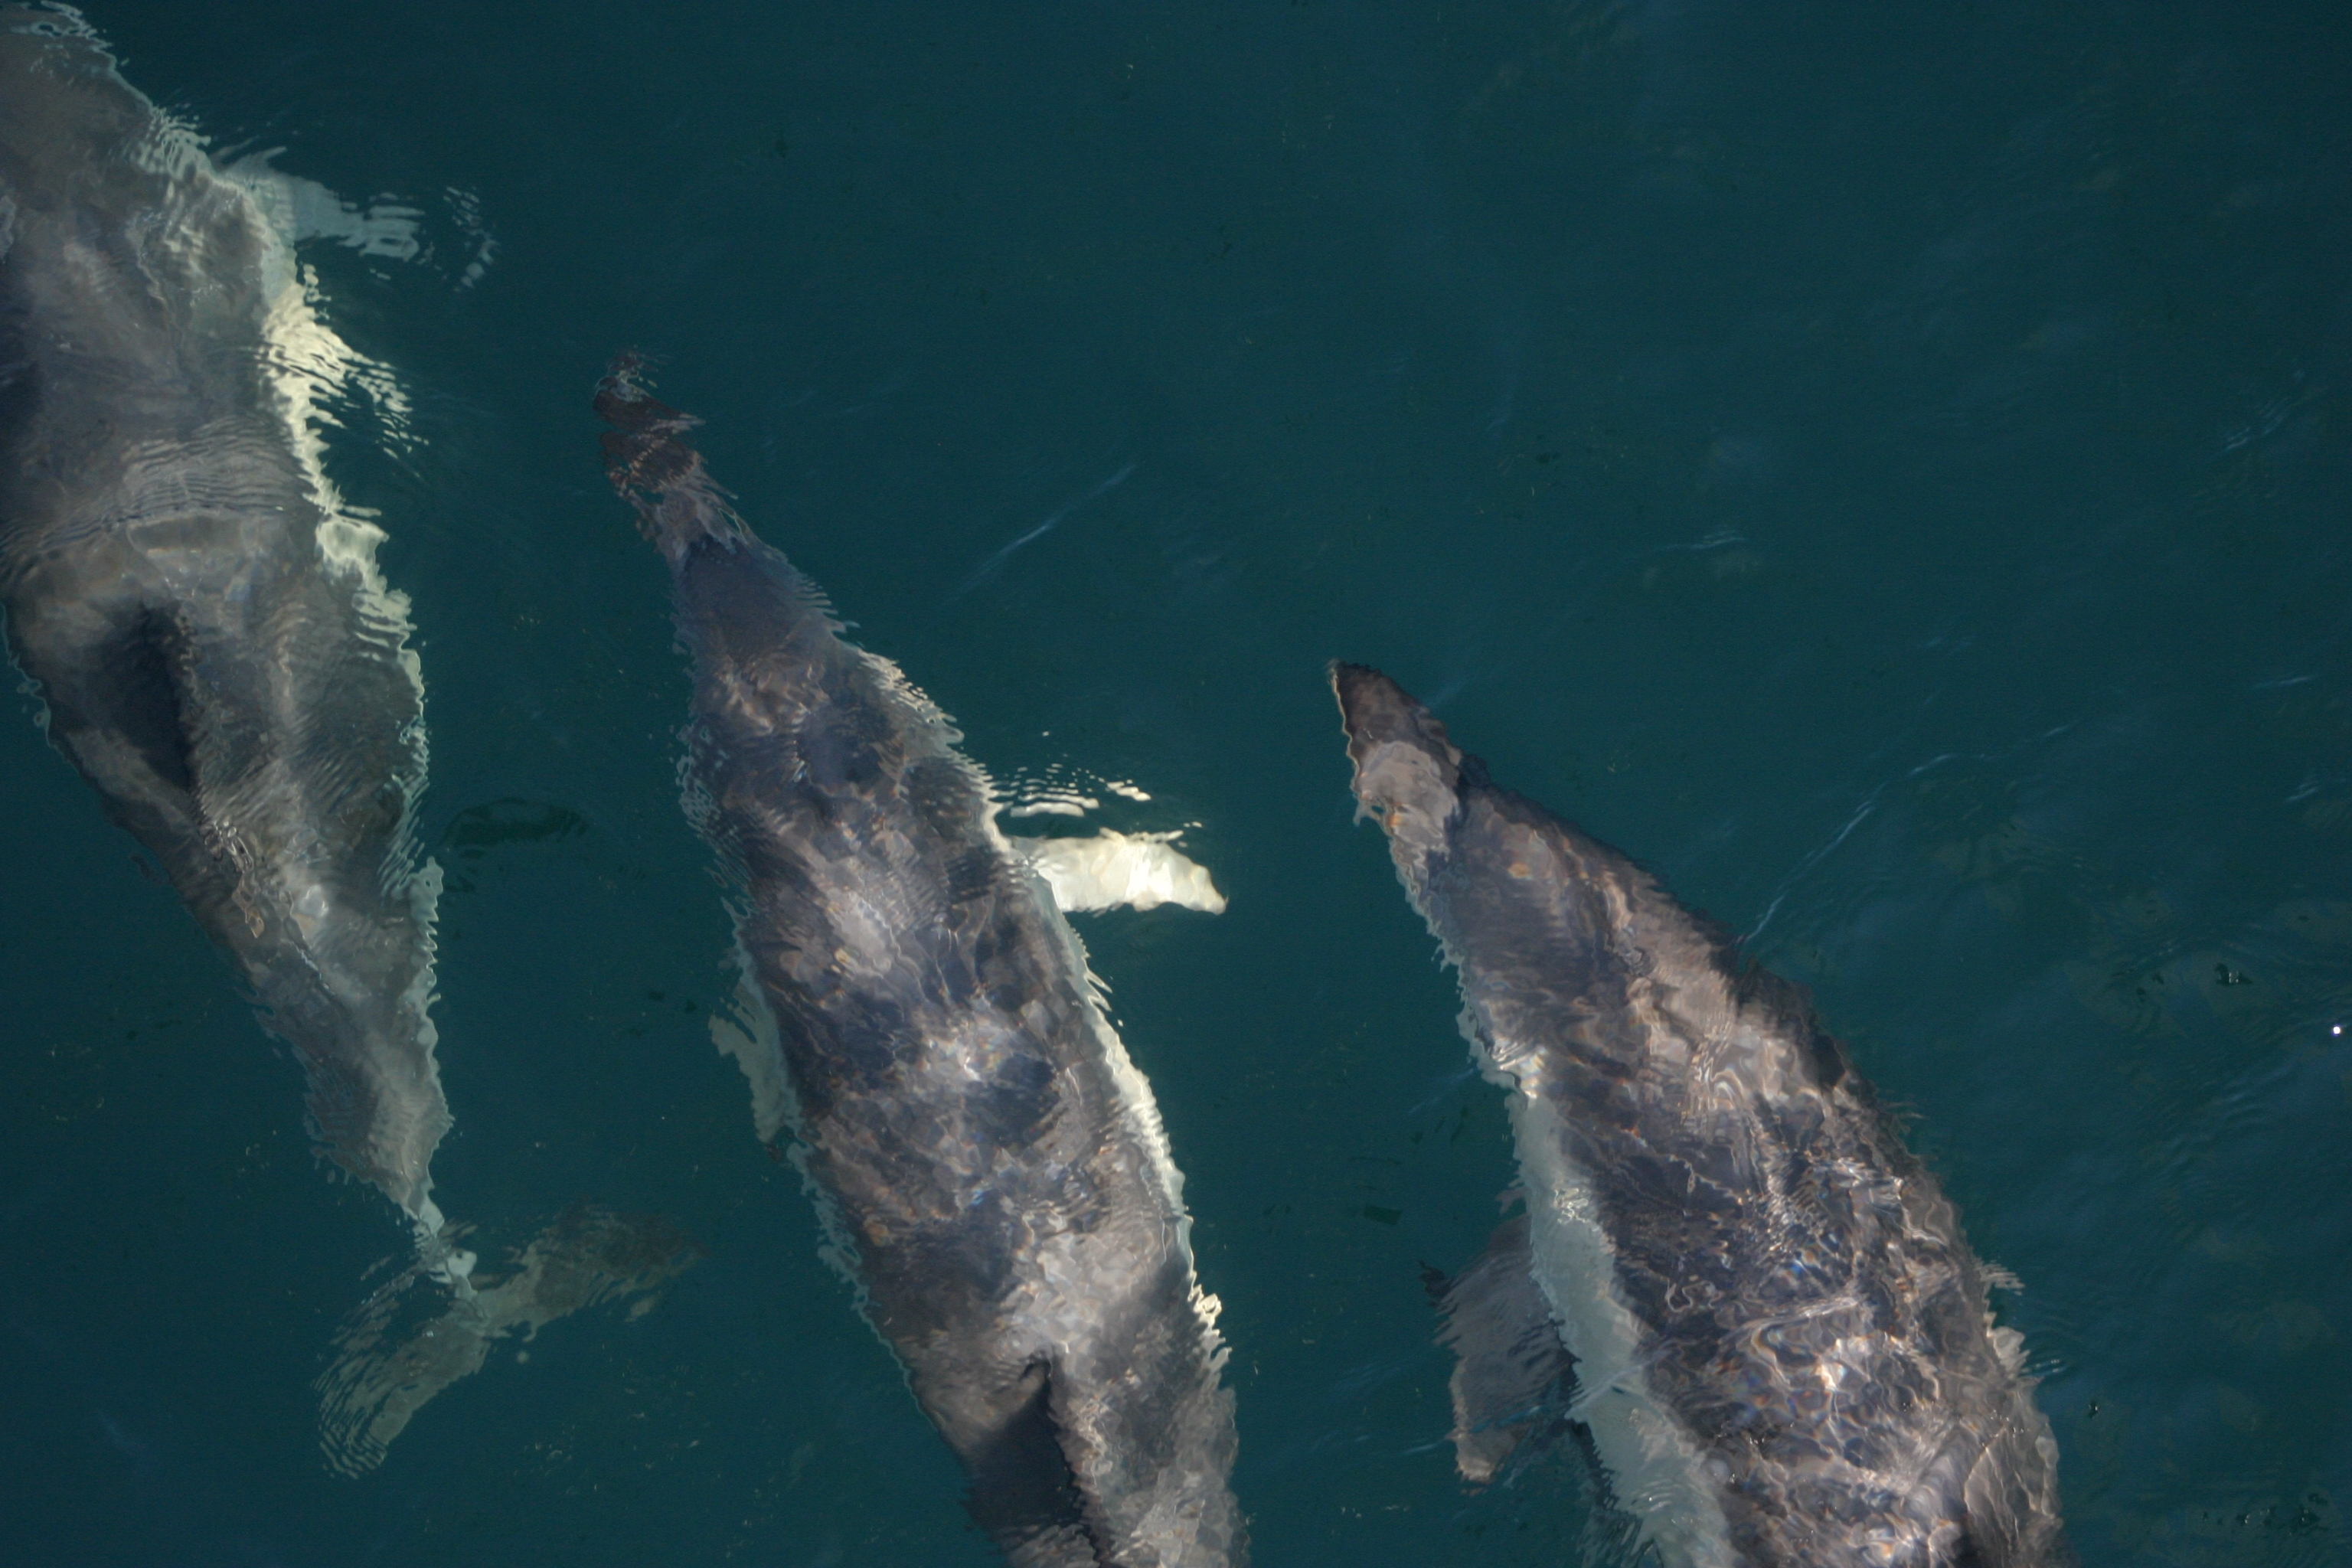dolphin: (0, 2, 686, 1479), (586, 369, 1244, 1568), (1316, 656, 2061, 1568)
